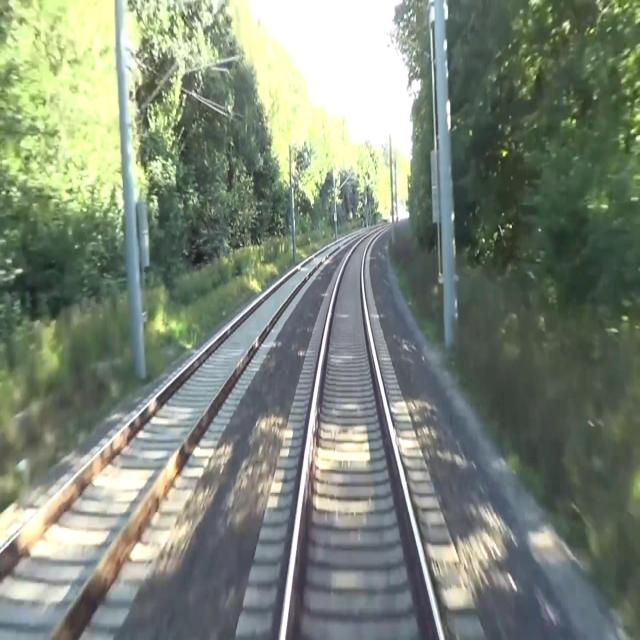rail-track: (0, 225, 375, 639), (285, 225, 439, 639)
